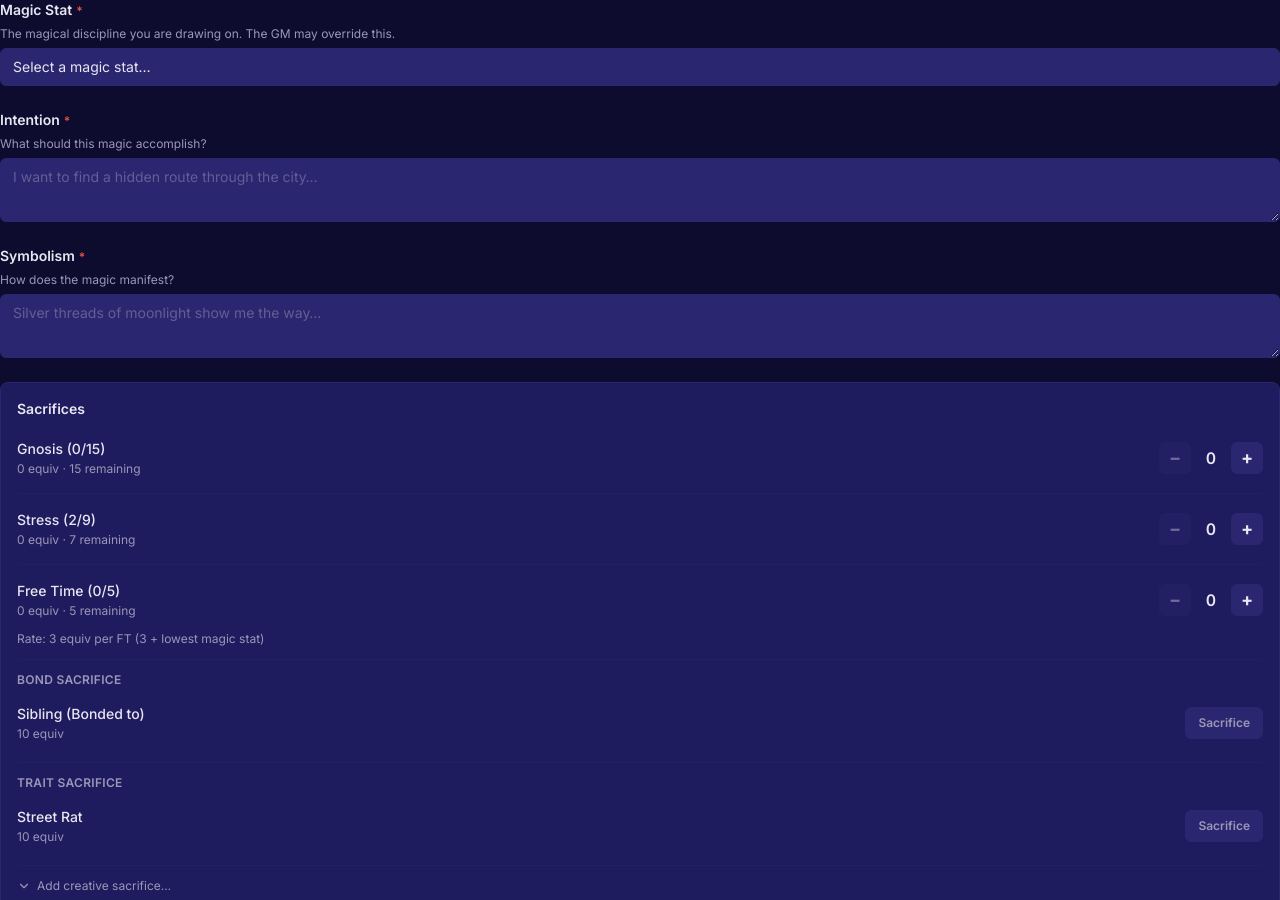
Scenario: UseMagicForm › dice pool preview › sums stat level, sacrifice dice, and modifiers
Select "Wyrding (Level 1)" in the dropdown labelled "Magic Stat*" at (640, 67), box [0,48,1279,86]
(page scrolled)
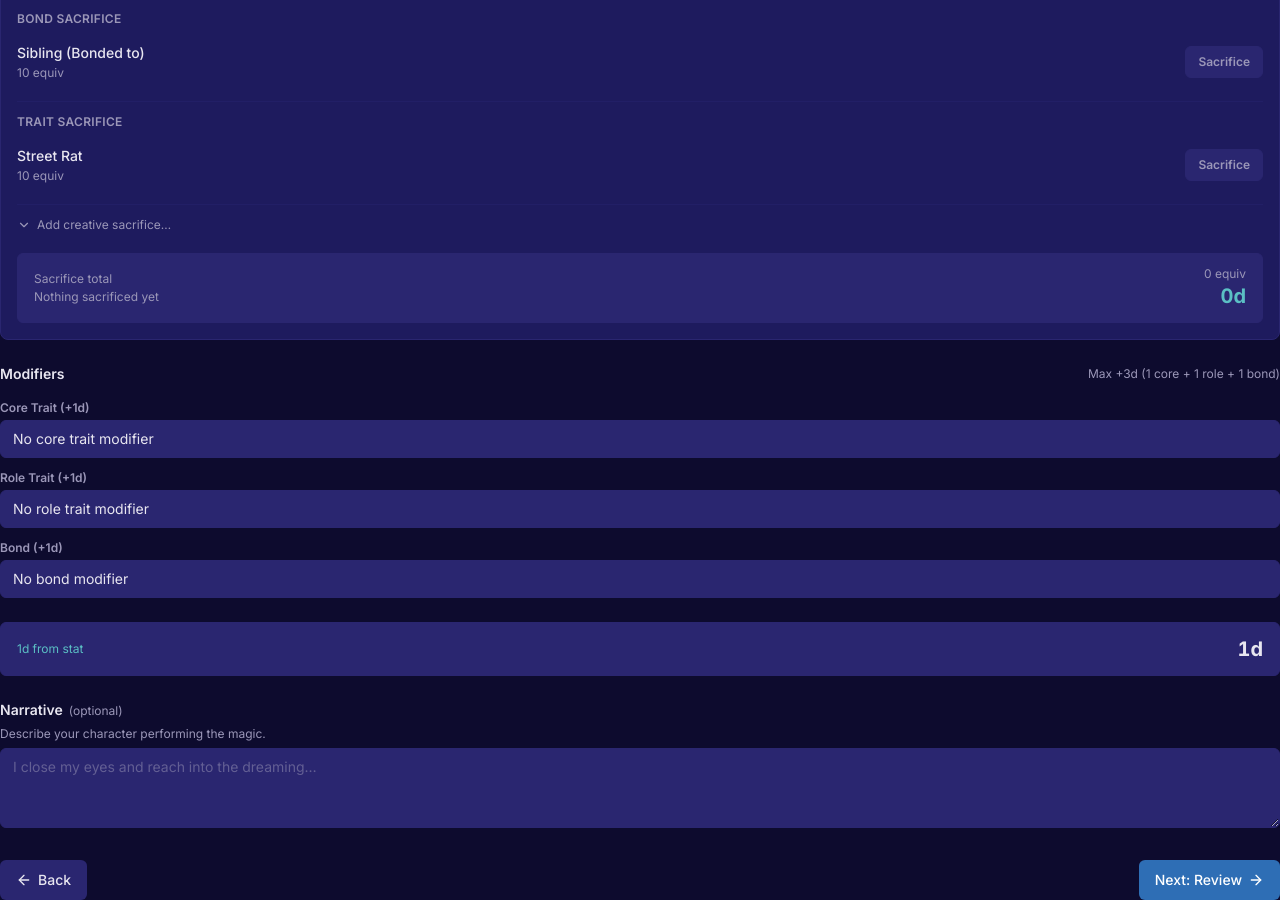
Result: the element named "Dice pool preview" shows "1d" at [0,622,1279,676]
